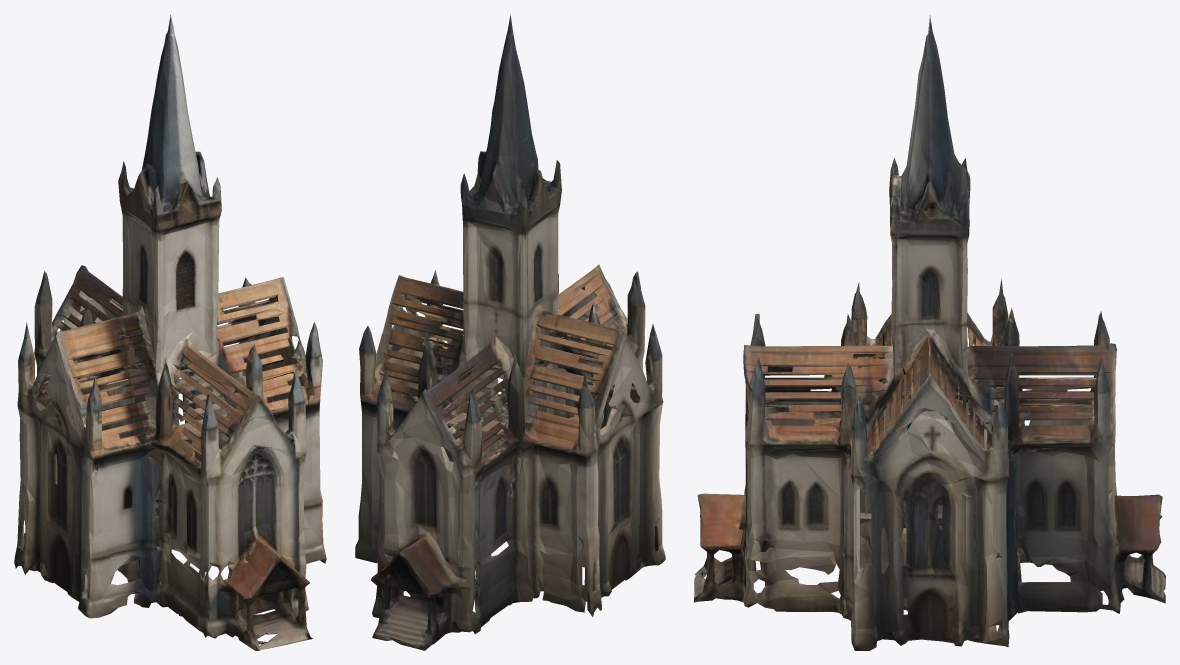
File: church_spire_small_lod0.glb
The picture shows the model from 3 angles, left to right: view 1: azimuth 30°, elevation 25°; view 2: azimuth 150°, elevation 25°; view 3: azimuth 270°, elevation 25°; orthographic projection. The views are drawn at different scales.
Visible parts, largest first — view 1: church_spire_small_lod0; view 2: church_spire_small_lod0; view 3: church_spire_small_lod0.
Boxes of the visible parts, box(x1,y1,x2,y2) form: church_spire_small_lod0: box(14, 15, 326, 650); church_spire_small_lod0: box(355, 14, 665, 650); church_spire_small_lod0: box(694, 15, 1165, 650).
Bounding box in the file's own units: 6.31 × 13.87 × 10.28.
Materials: 1 (1 with a texture image).
